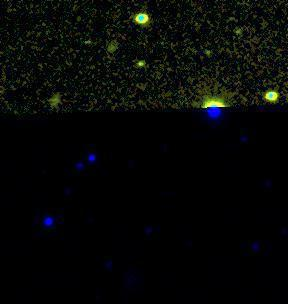star: (126, 52, 156, 82)
